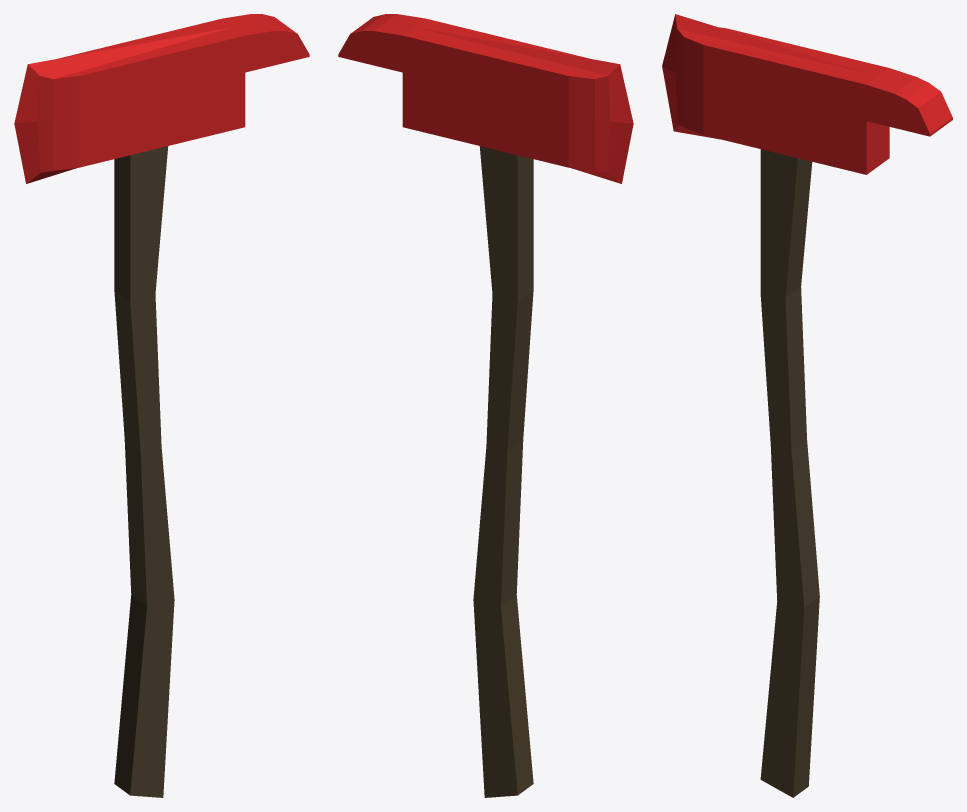
The model's file is axe.fbx.
3 views of the same model, side by side, from view 1: azimuth 30°, elevation 25°; view 2: azimuth 150°, elevation 25°; view 3: azimuth 330°, elevation 25° (orthographic).
Parts seen in each view (by area): view 1: Cube.001, Cube; view 2: Cube.001, Cube; view 3: Cube.001, Cube.
Boxes of the visible parts, box(x1,y1,x2,y2) form: Cube.001: box(14, 14, 309, 183); Cube: box(114, 146, 174, 797); Cube.001: box(338, 14, 633, 183); Cube: box(473, 146, 533, 797); Cube.001: box(662, 14, 952, 174); Cube: box(760, 149, 819, 797).
Size of the model in its own units: 207 by 528 by 29.24.
